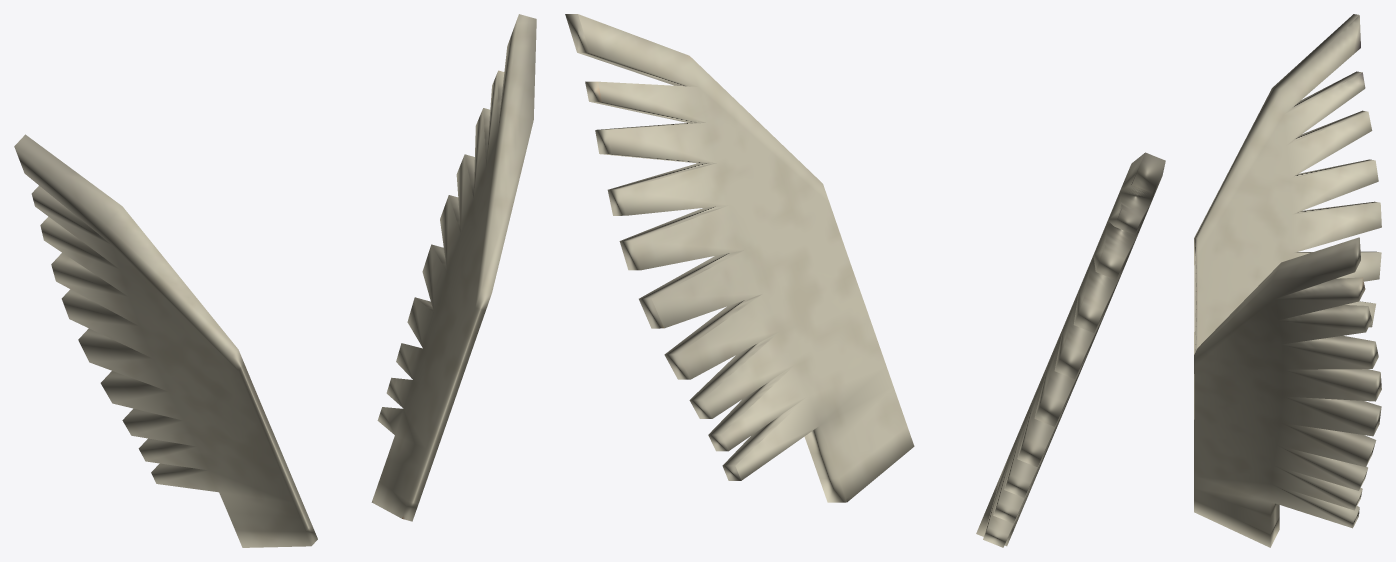
The model's file is angelwings.fbx.
3 renders of one model, left to right at view 1: azimuth 30°, elevation 25°; view 2: azimuth 150°, elevation 25°; view 3: azimuth 270°, elevation 25°, orthographic. The views are drawn at different scales.
Parts seen in each view (by area): view 1: angelwings; view 2: angelwings; view 3: angelwings.
Boxes of the visible parts, x1,y1,x2,y2 form: angelwings: [14, 14, 536, 547]; angelwings: [565, 14, 1165, 547]; angelwings: [1194, 14, 1381, 547].
Bounding box in the file's own units: 2.88 × 2.21 × 0.9711.
